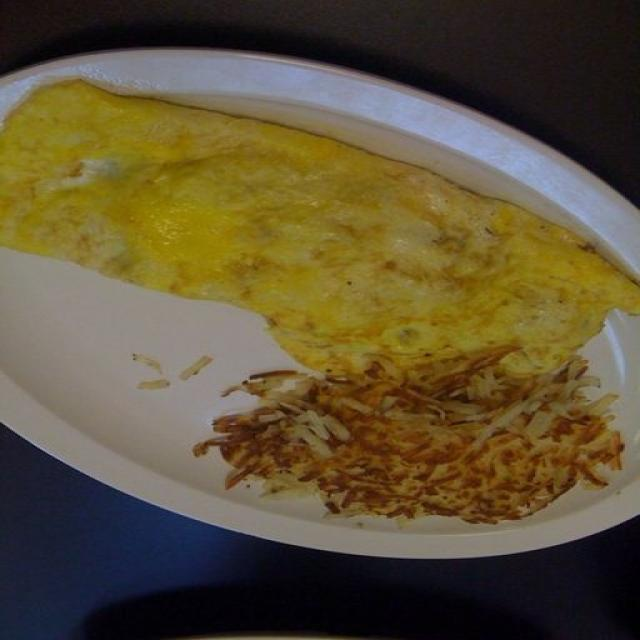telur_ayam_dadar: (2, 79, 640, 385)
